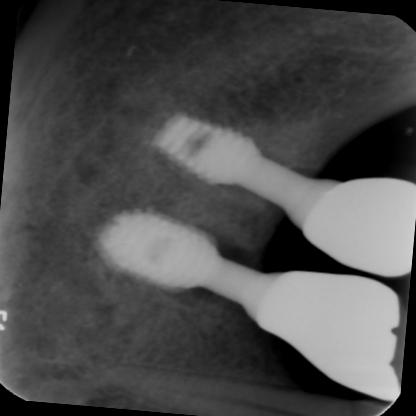Bicon: (118, 113, 300, 200)
